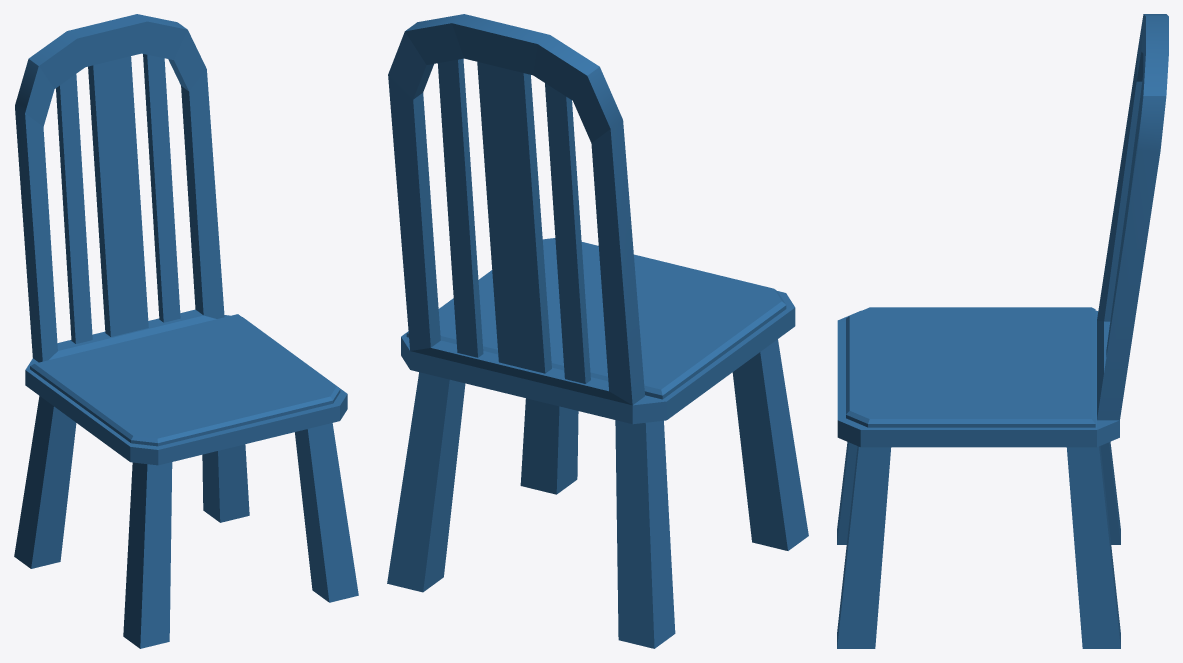
File: silla01.fbx
3 renders of one model, left to right at view 1: azimuth 30°, elevation 25°; view 2: azimuth 150°, elevation 25°; view 3: azimuth 270°, elevation 25°, orthographic. The views are drawn at different scales.
Visible parts, largest first — view 1: pCube245; view 2: pCube245; view 3: pCube245.
Part boxes in pixels (<box>): pCube245: <box>14,14,358,648</box>; pCube245: <box>387,14,808,648</box>; pCube245: <box>837,14,1168,648</box>.
Bounding box in the file's own units: 0.6037 × 1.3 × 0.7055.
